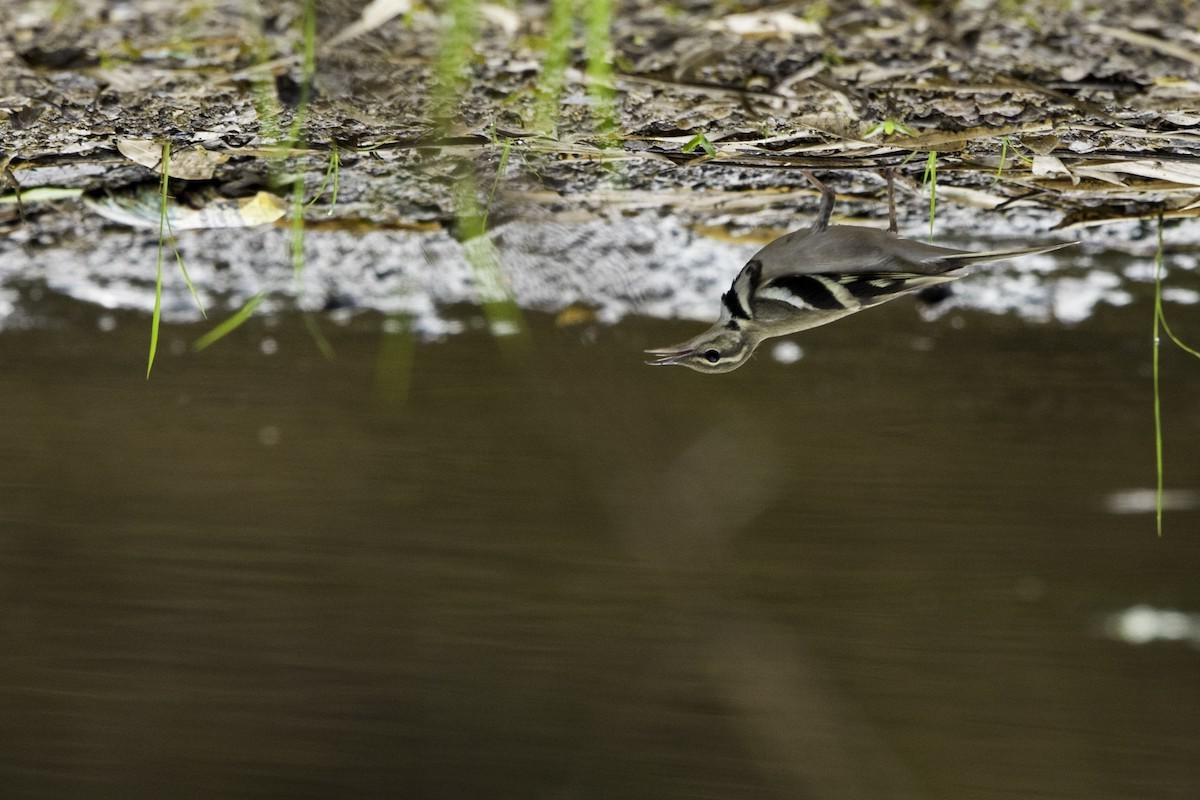wagtail: (625, 161, 1038, 395)
